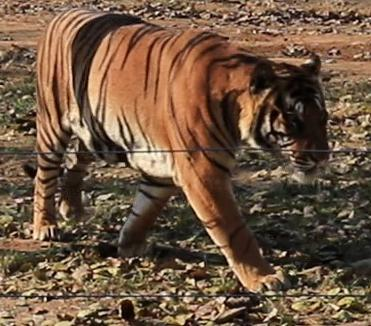tiger: (24, 9, 327, 291)
